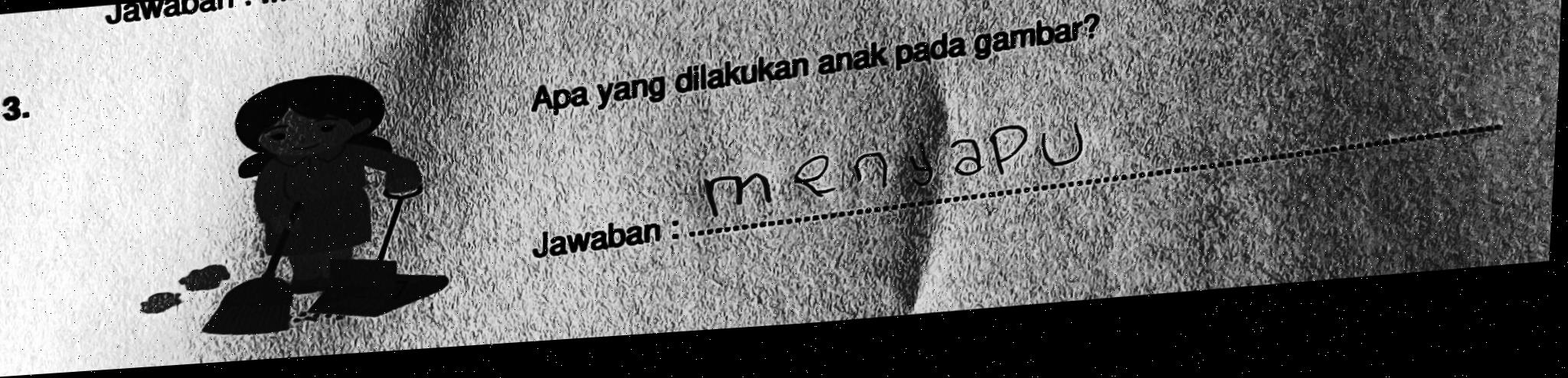jawaban: (702, 107, 1098, 233)
